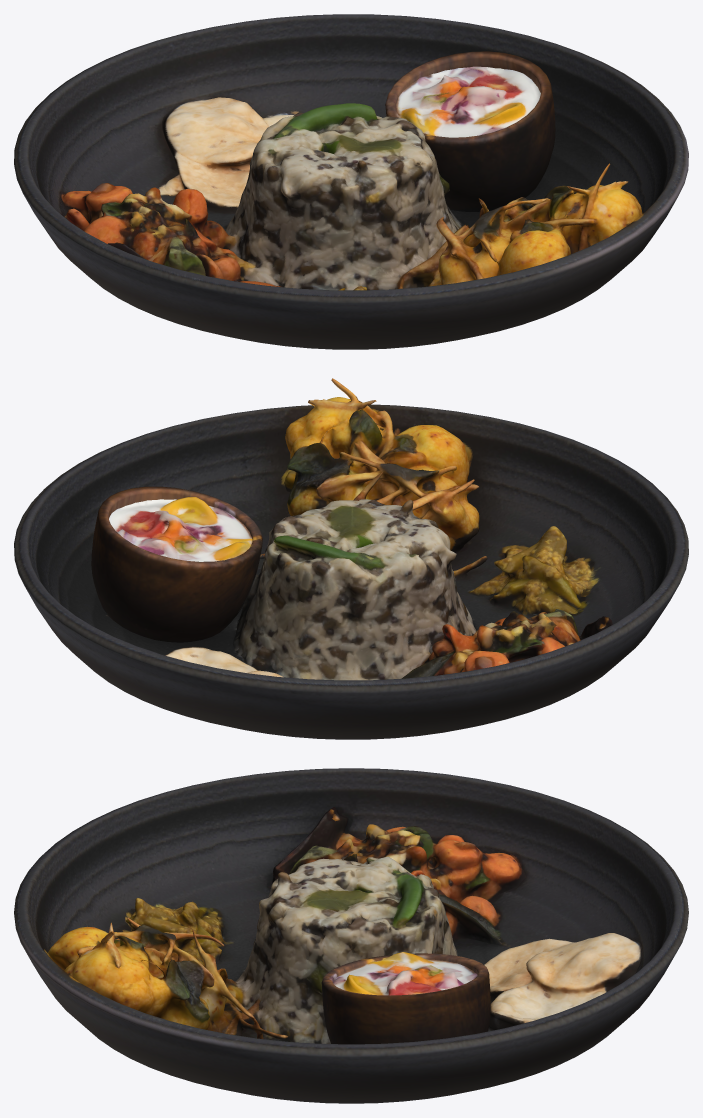
Rendered from Pongal_Khichidi_(black_dish_brown_rice).FBX.
3 views of the same model, one above another, from view 1: azimuth 30°, elevation 25°; view 2: azimuth 150°, elevation 25°; view 3: azimuth 270°, elevation 25° (orthographic).
Visible parts, largest first — view 1: Pongal Khichidi (black dish, brown rice); view 2: Pongal Khichidi (black dish, brown rice); view 3: Pongal Khichidi (black dish, brown rice).
Boxes of the visible parts, x1,y1,x2,y2 form: Pongal Khichidi (black dish, brown rice): [14, 14, 688, 349]; Pongal Khichidi (black dish, brown rice): [14, 378, 688, 739]; Pongal Khichidi (black dish, brown rice): [14, 768, 688, 1103].
Size of the model in its own units: 4.33 by 1.06 by 4.33.
Materials: 1 (1 with a texture image).
